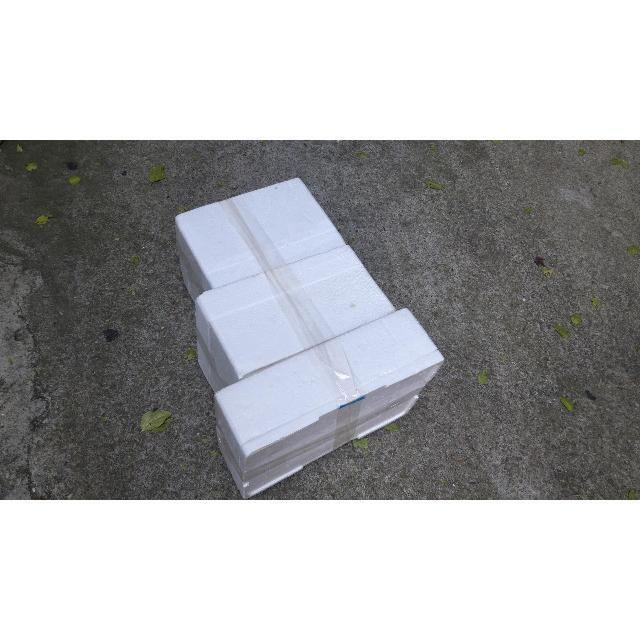Plastico descartable: (174, 179, 445, 500)
